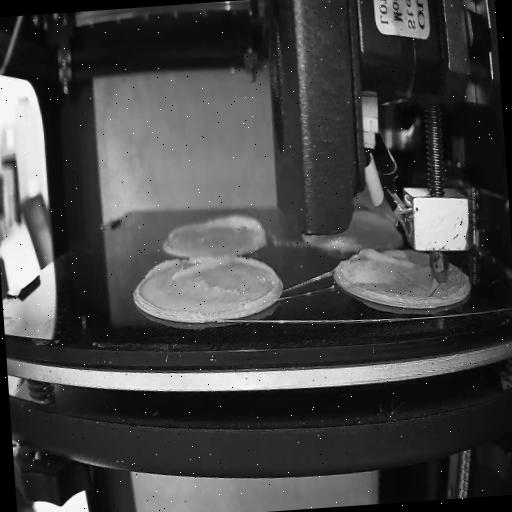over_extrusion: (234, 254, 286, 310), (354, 244, 428, 278), (144, 256, 232, 284), (210, 208, 266, 248), (166, 222, 196, 240), (423, 279, 439, 298)
